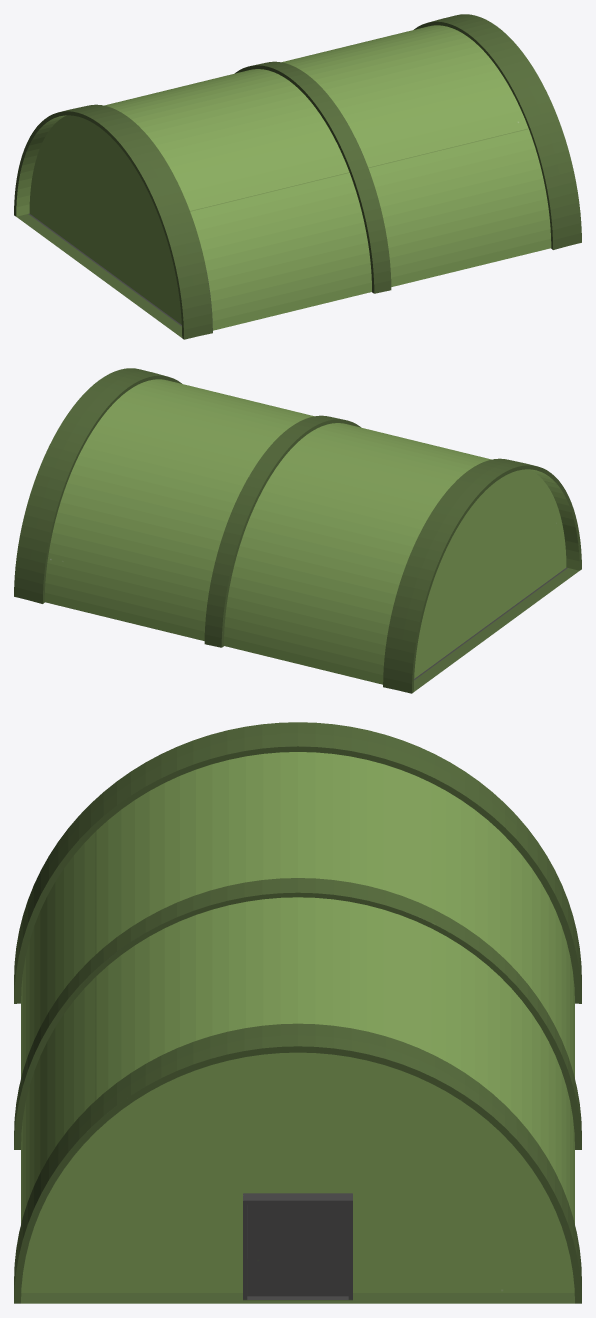
The model's file is Camp.fbx.
3 renders of one model, top to bottom at view 1: azimuth 30°, elevation 25°; view 2: azimuth 150°, elevation 25°; view 3: azimuth 270°, elevation 25°, orthographic. The views are drawn at different scales.
Parts seen in each view (by area): view 1: Cylinder; view 2: Cylinder; view 3: Cylinder.
Part boxes in pixels (x1=…): Cylinder: x1=14, y1=14, x2=581, y2=339; Cylinder: x1=14, y1=368, x2=581, y2=693; Cylinder: x1=14, y1=722, x2=581, y2=1303.
Size of the model in its own units: 2095 by 781 by 1552.
